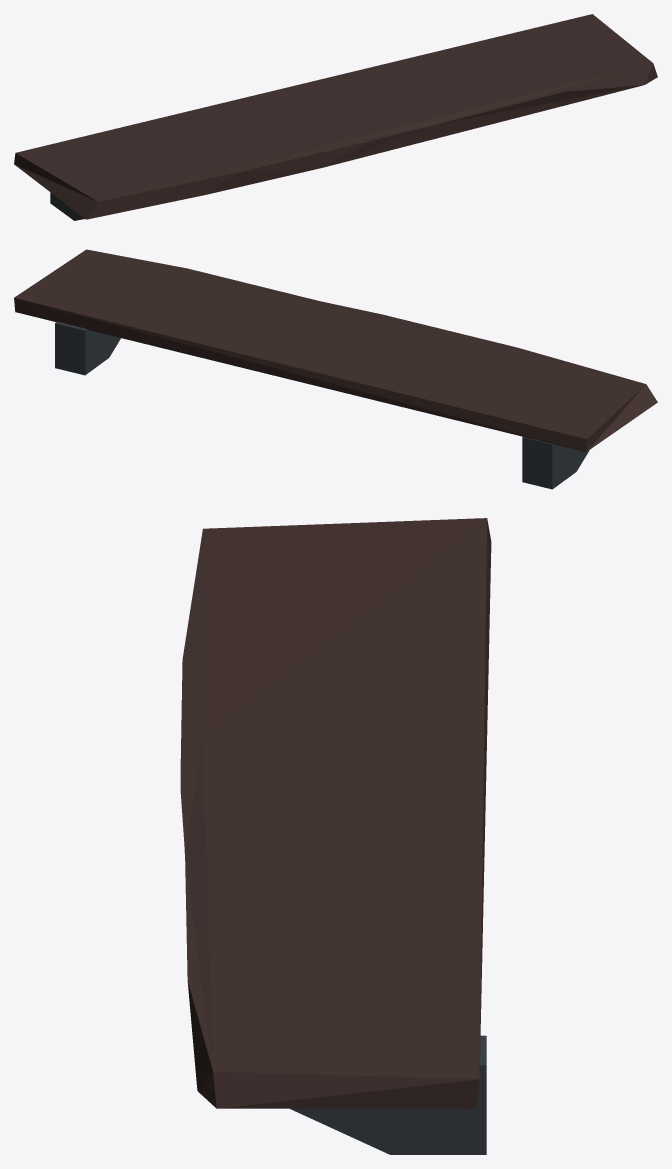
Rendered from MDungeon_Shelf_01.FBX.
3 renders of one model, top to bottom at view 1: azimuth 30°, elevation 25°; view 2: azimuth 150°, elevation 25°; view 3: azimuth 270°, elevation 25°, orthographic. The views are drawn at different scales.
Parts seen in each view (by area): view 1: MDungeon_Shelf_01_LOD0; view 2: MDungeon_Shelf_01_LOD0; view 3: MDungeon_Shelf_01_LOD0.
Boxes of the visible parts, left/top/right/bottom form: MDungeon_Shelf_01_LOD0: left=14, top=14, right=657, bottom=220; MDungeon_Shelf_01_LOD0: left=14, top=249, right=657, bottom=489; MDungeon_Shelf_01_LOD0: left=180, top=518, right=491, bottom=1154.
Bounding box in the file's own units: 1.7 × 0.1683 × 0.3975.
